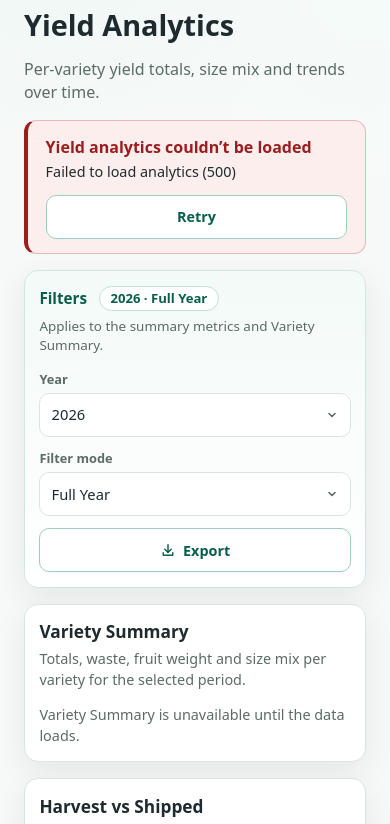
Test case: Yield Analytics — loading and error states › shows one error panel with the server message, and Retry reloads the same data
Expected: the message shows "Yield analytics couldn’t be loaded", [46,136,312,158]
Expected: the message shows "Failed to load analytics (500)", [46,162,236,181]
Click the button "Retry" at (196, 217), box [46,195,347,239]
(page scrolled)
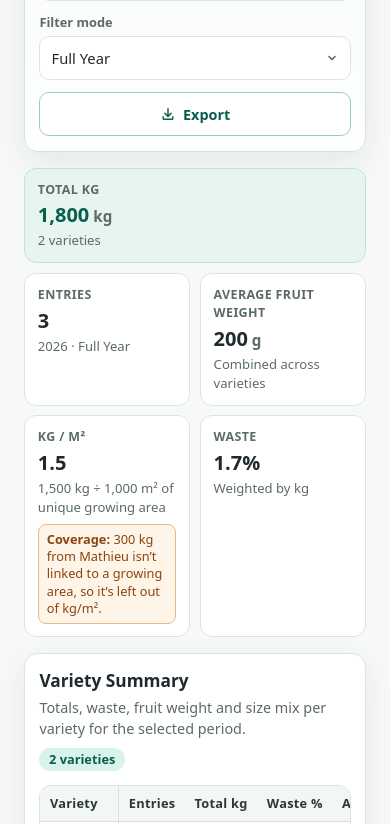
Result: the element named "Summary metrics" is shown at [24,168,366,637]
Result: the message "Yield analytics couldn’t be loaded Failed to load analytics (500) Retry" is gone
